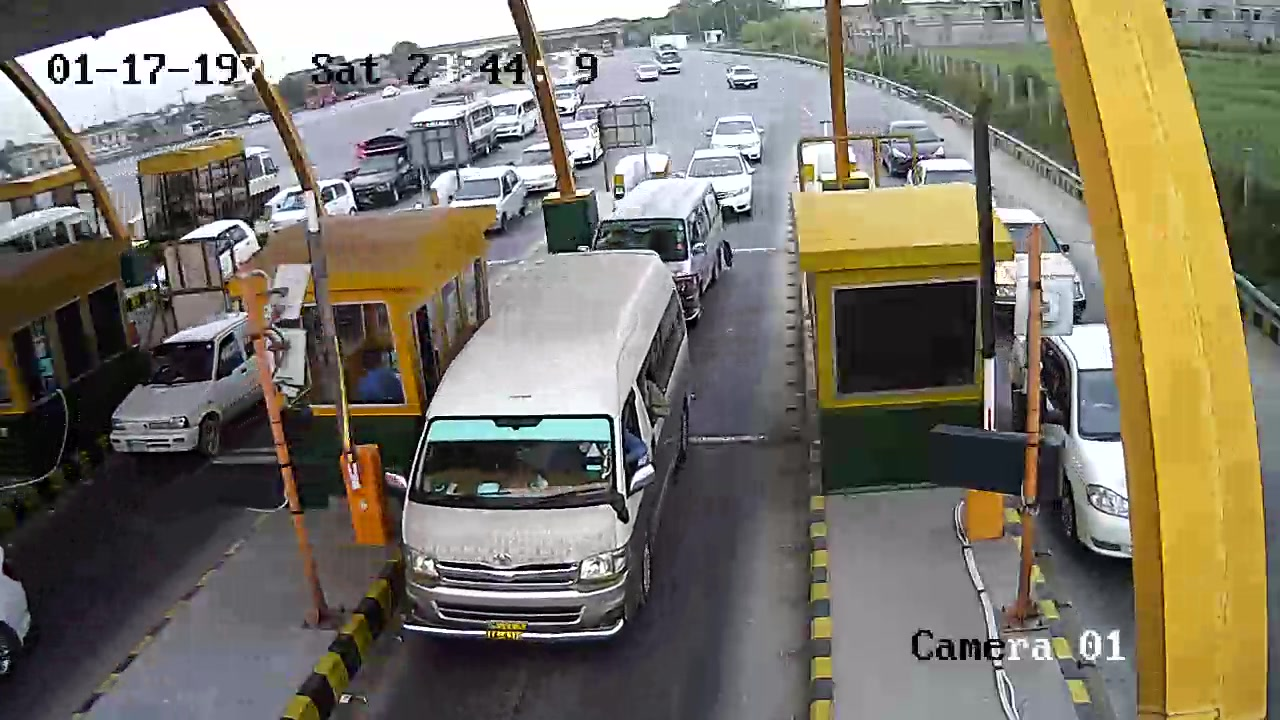F2: (383, 241, 724, 649)
